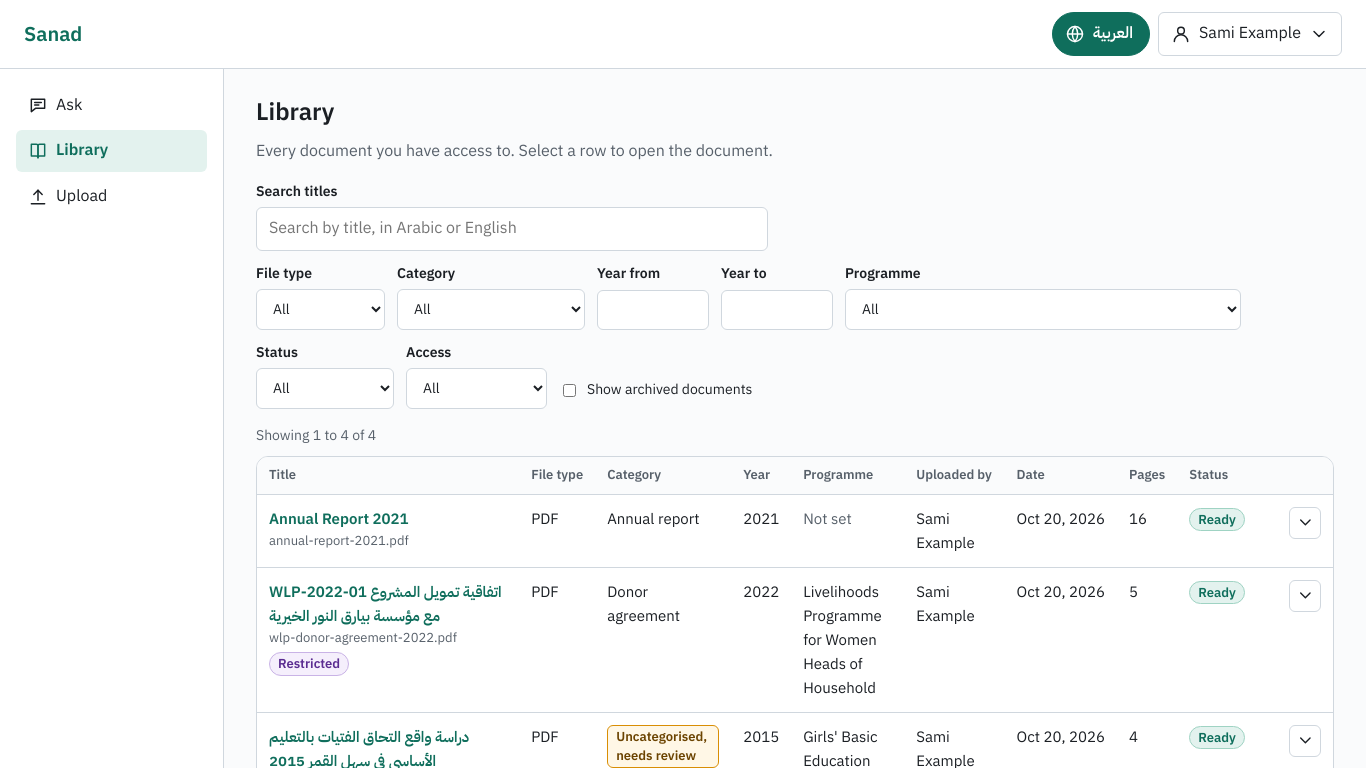
Test: editor actions › edits the metadata and sends only what changed
This screenshot has width=1366, height=768.
Click the button named "Actions for دراسة واقع التحاق الفتيات بالتعليم الأساسي في سه" at coordinates (1305, 740), box [1289, 724, 1321, 756]
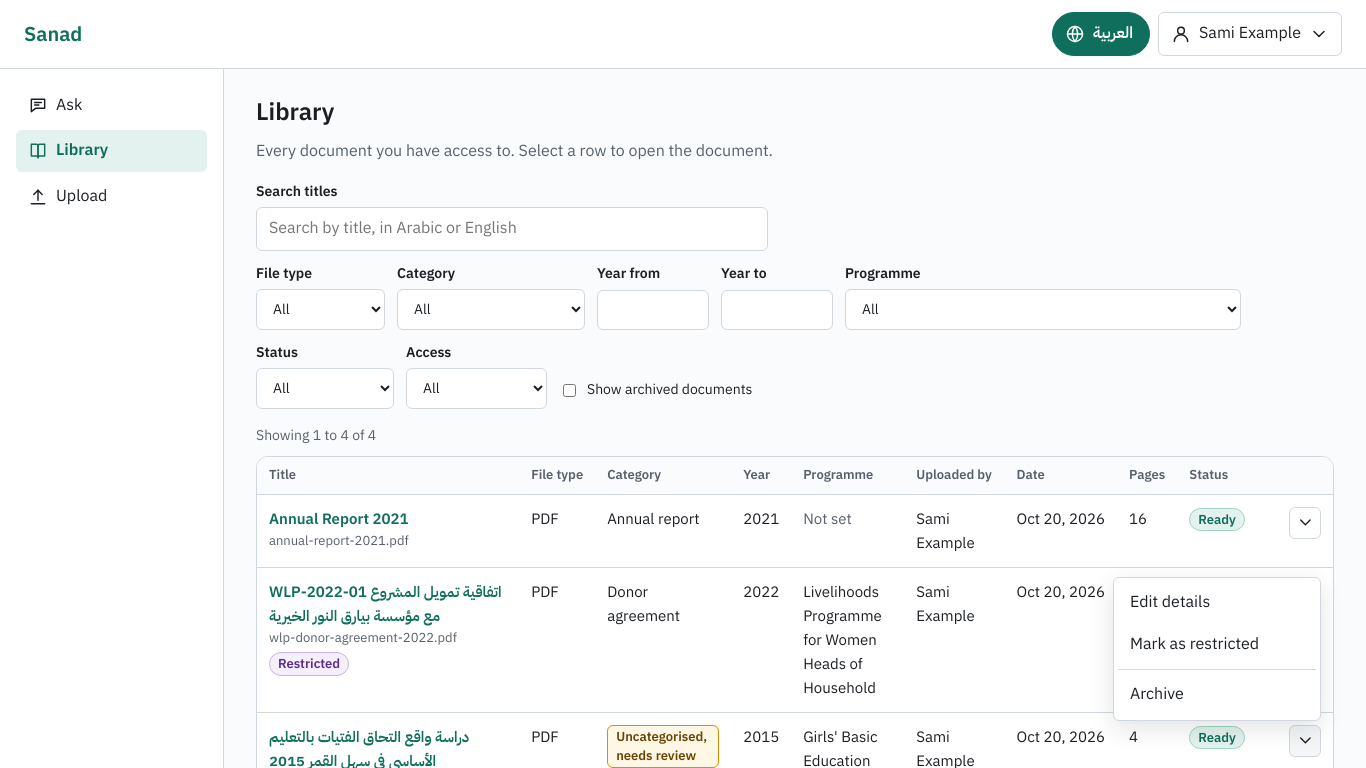
Click the menu item "Edit details" at coordinates (1170, 602), box [1130, 590, 1210, 614]
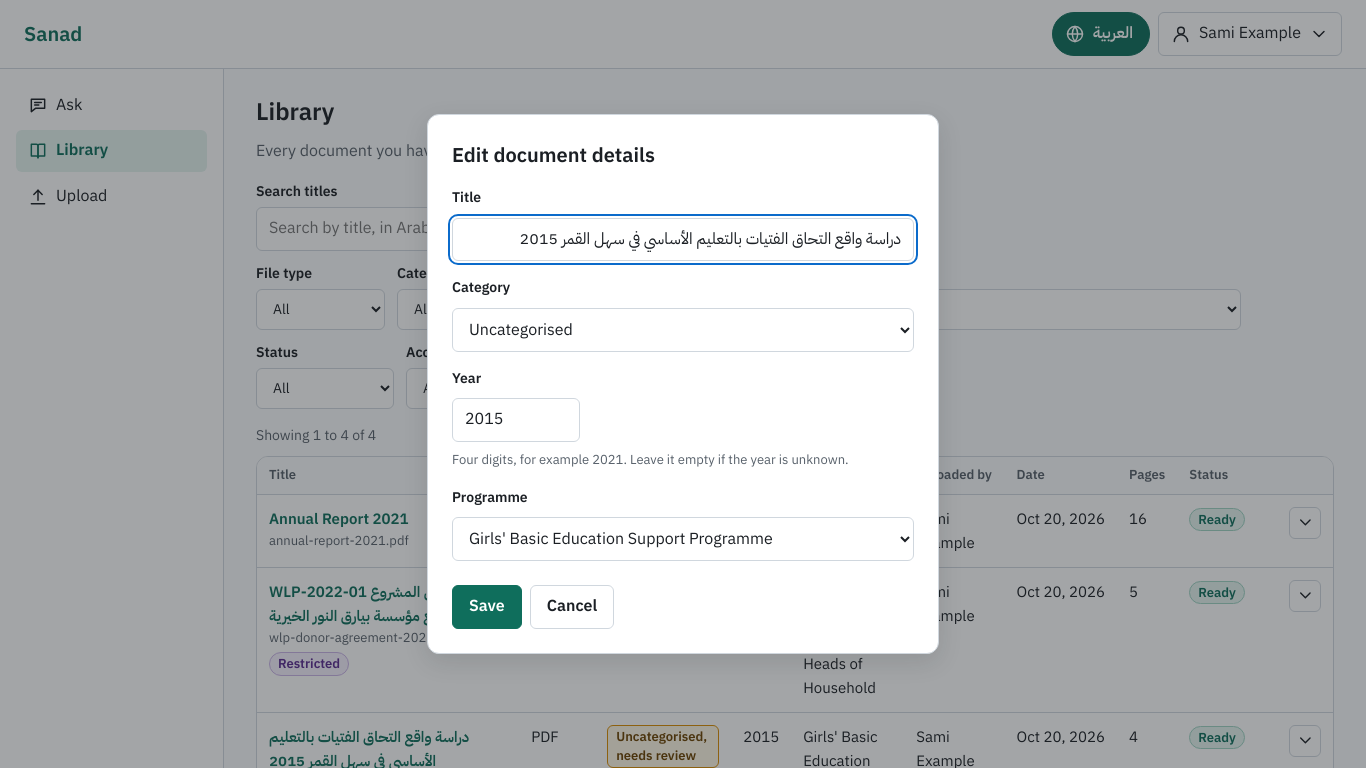
Select "Field survey" in the dropdown labelled "Category" at coordinates (683, 330), box [452, 308, 914, 352]
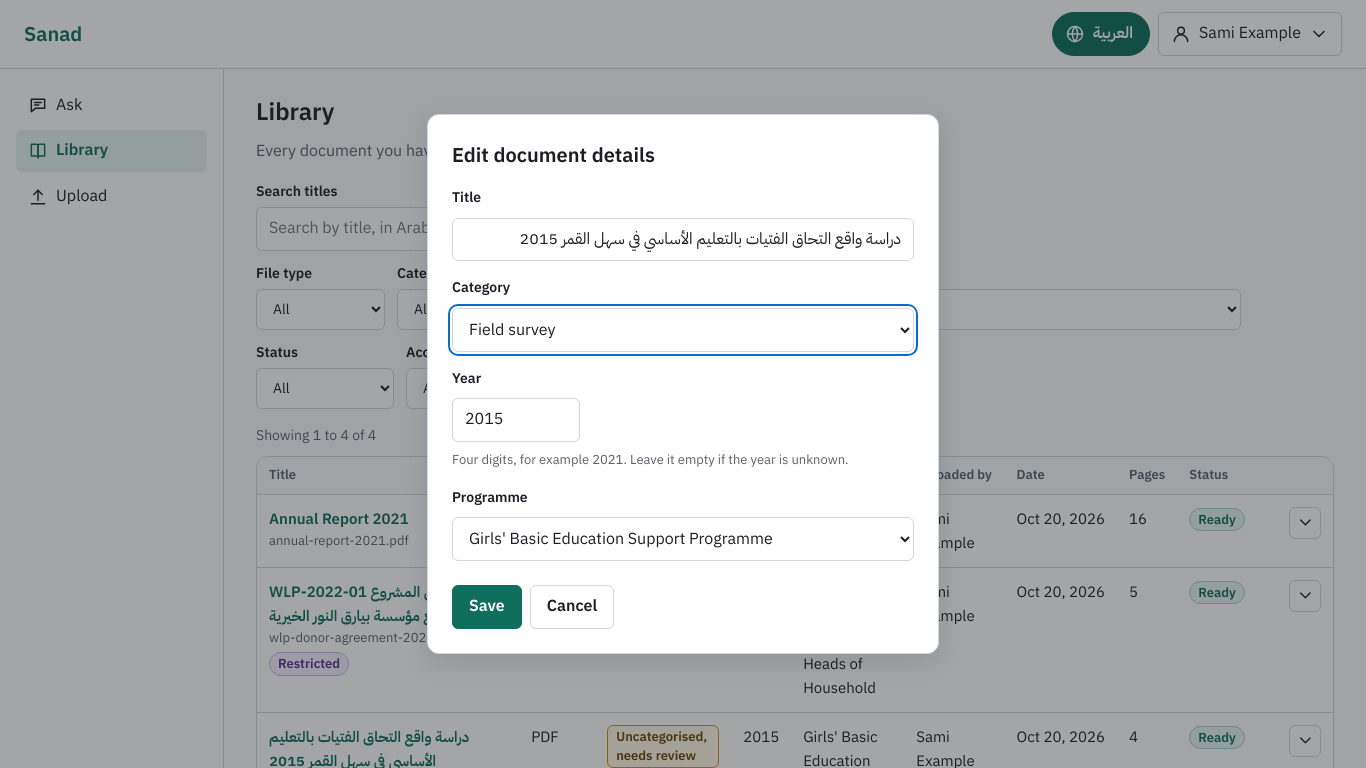
Replace the text in the number field labelled "Year" with "20" at coordinates (516, 420), box [452, 398, 580, 442]
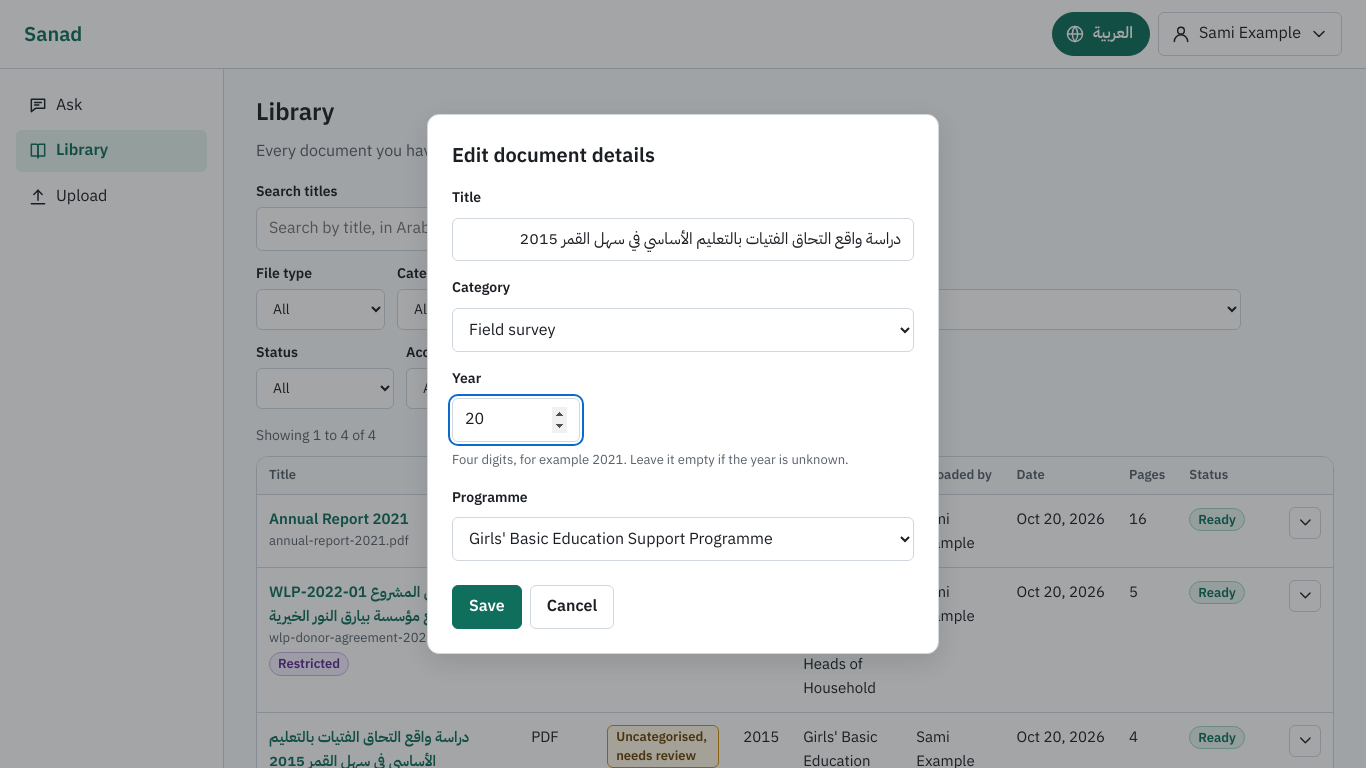
Click the button "Save" at coordinates (487, 607), box [452, 585, 522, 629]
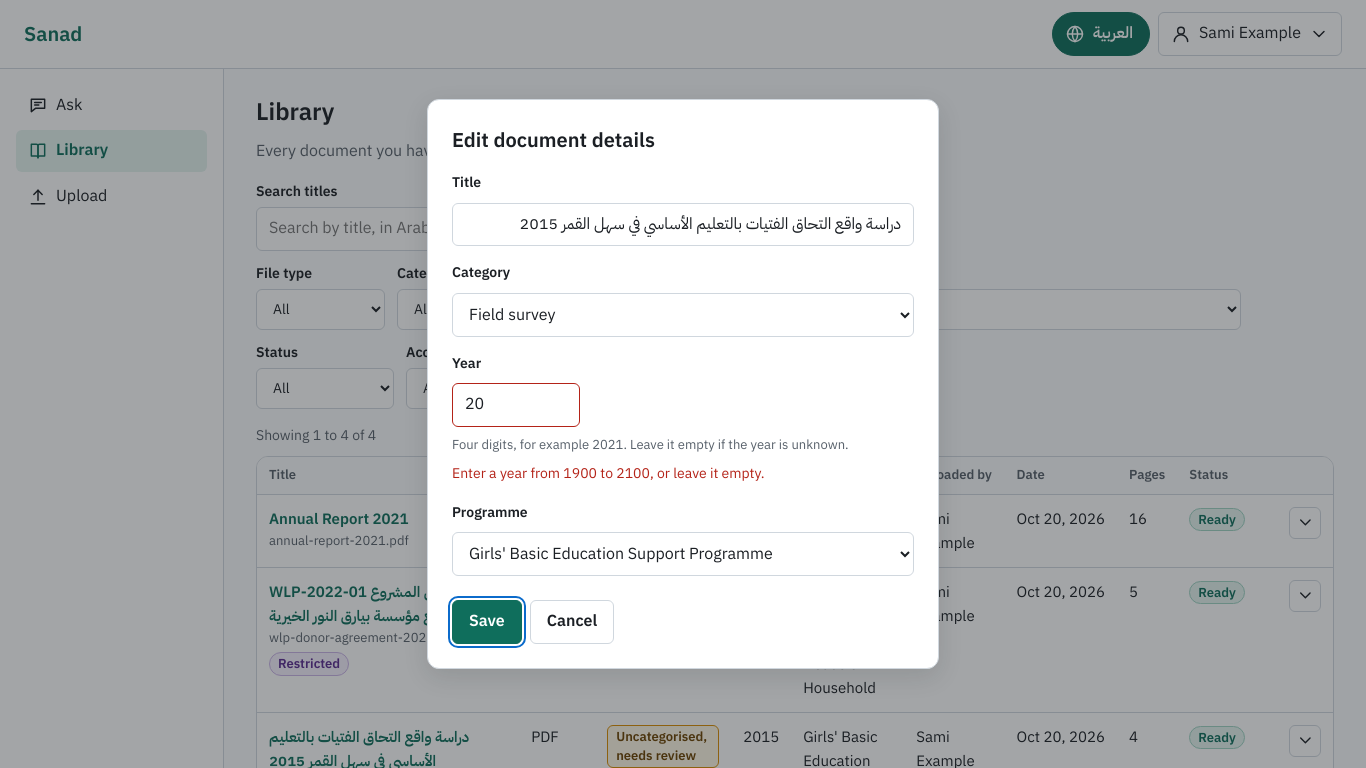
Type "16" into the number field labelled "Year" at coordinates (516, 405), box [452, 383, 580, 427]
Click the button "Save" at coordinates (487, 622), box [452, 600, 522, 644]
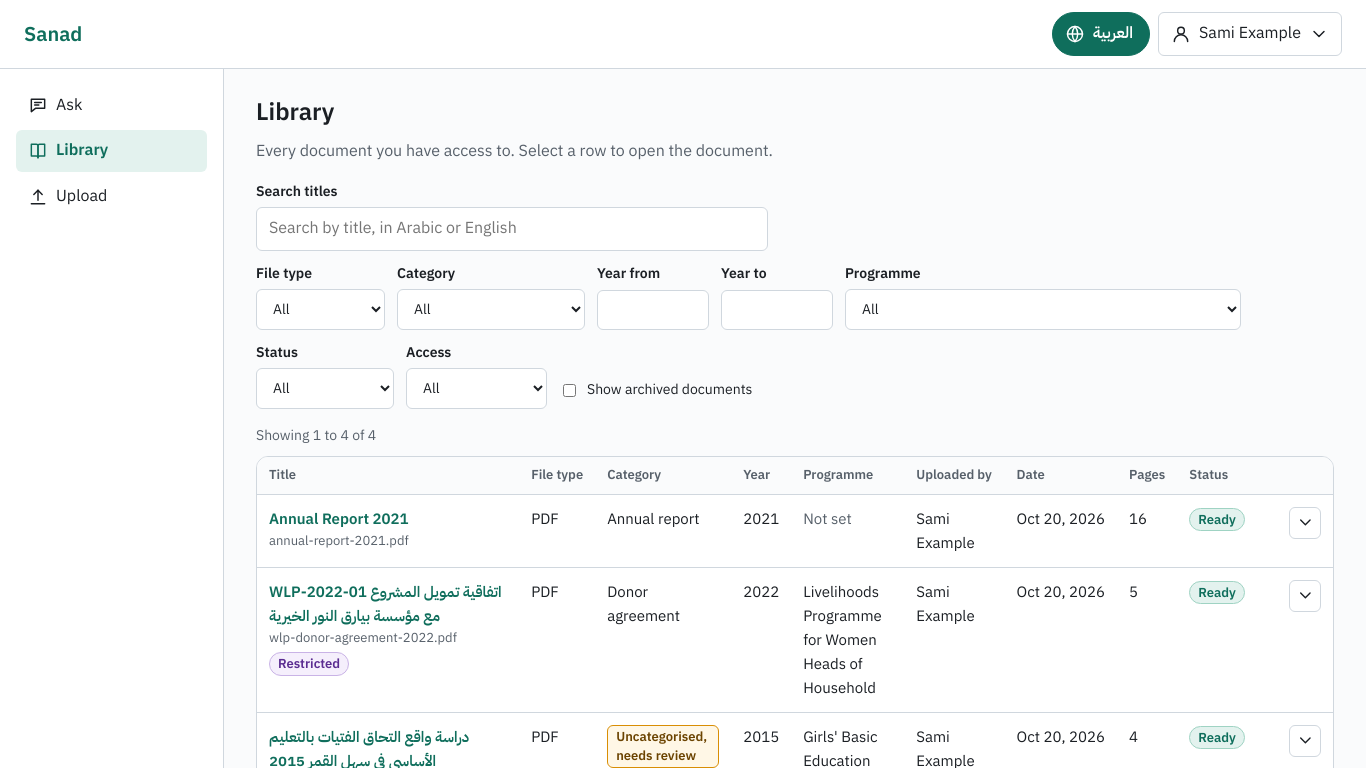
Expected: the dialog is gone
